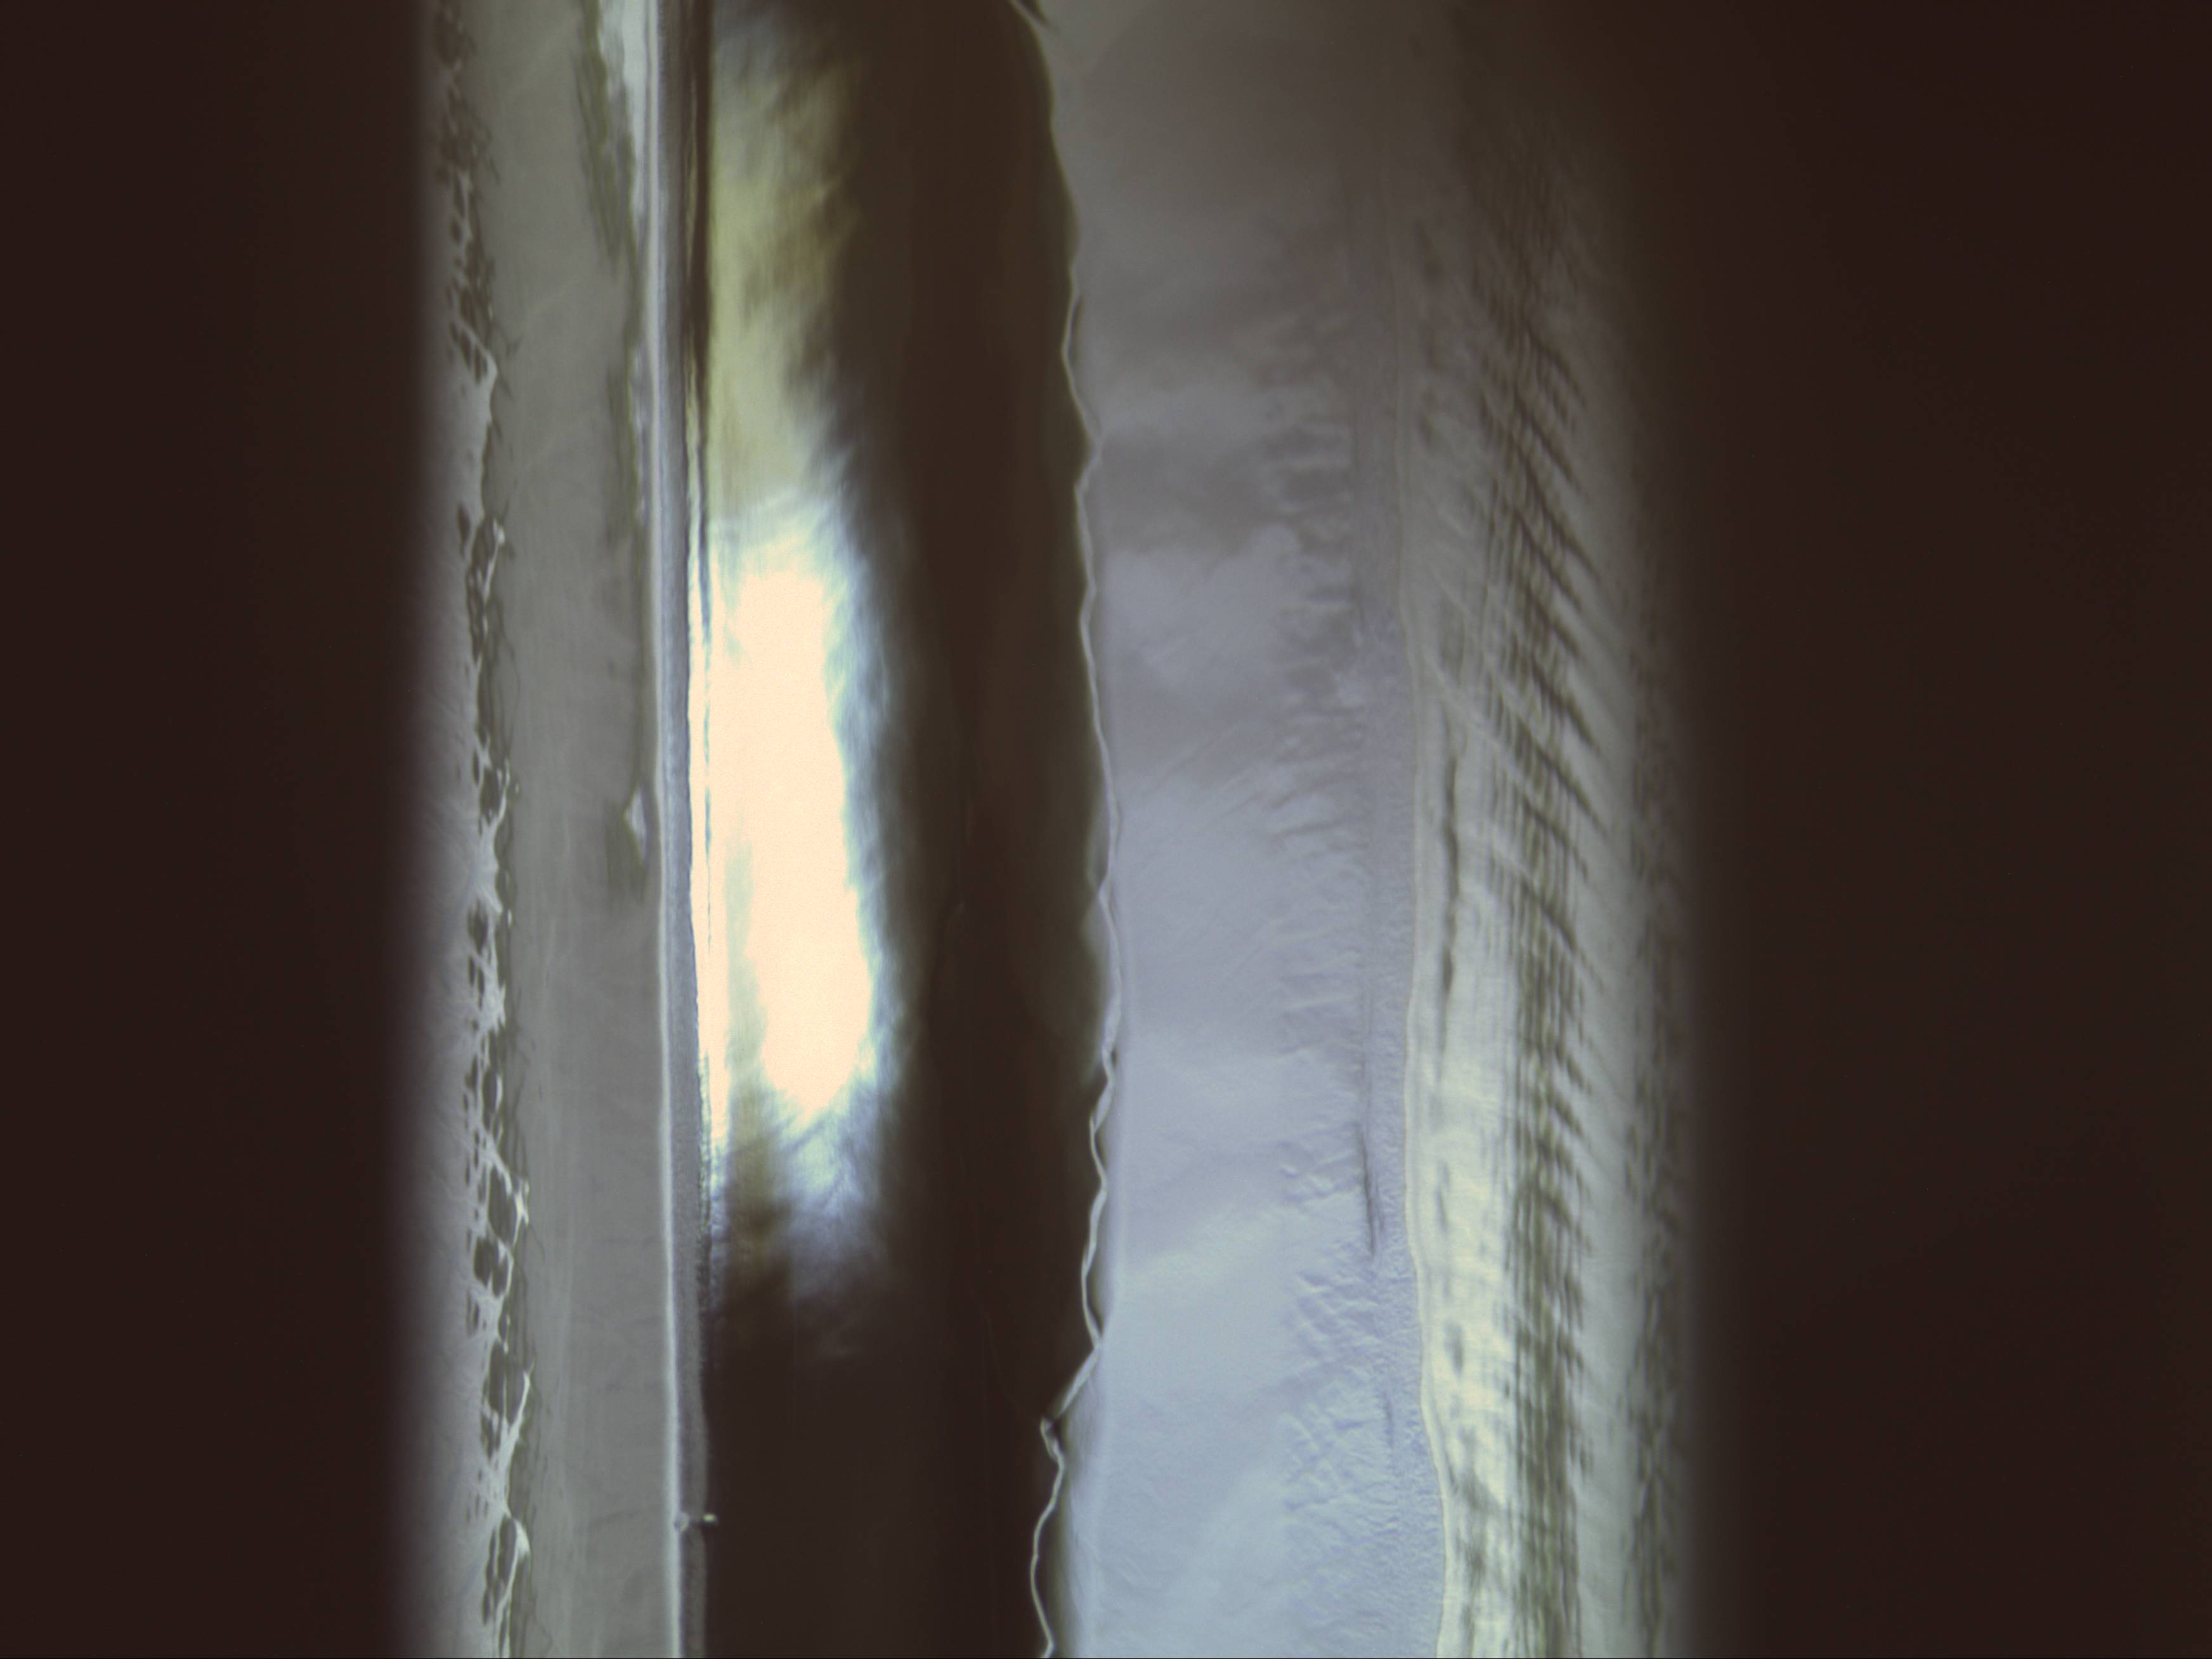defect: (669, 1492, 723, 1544)
